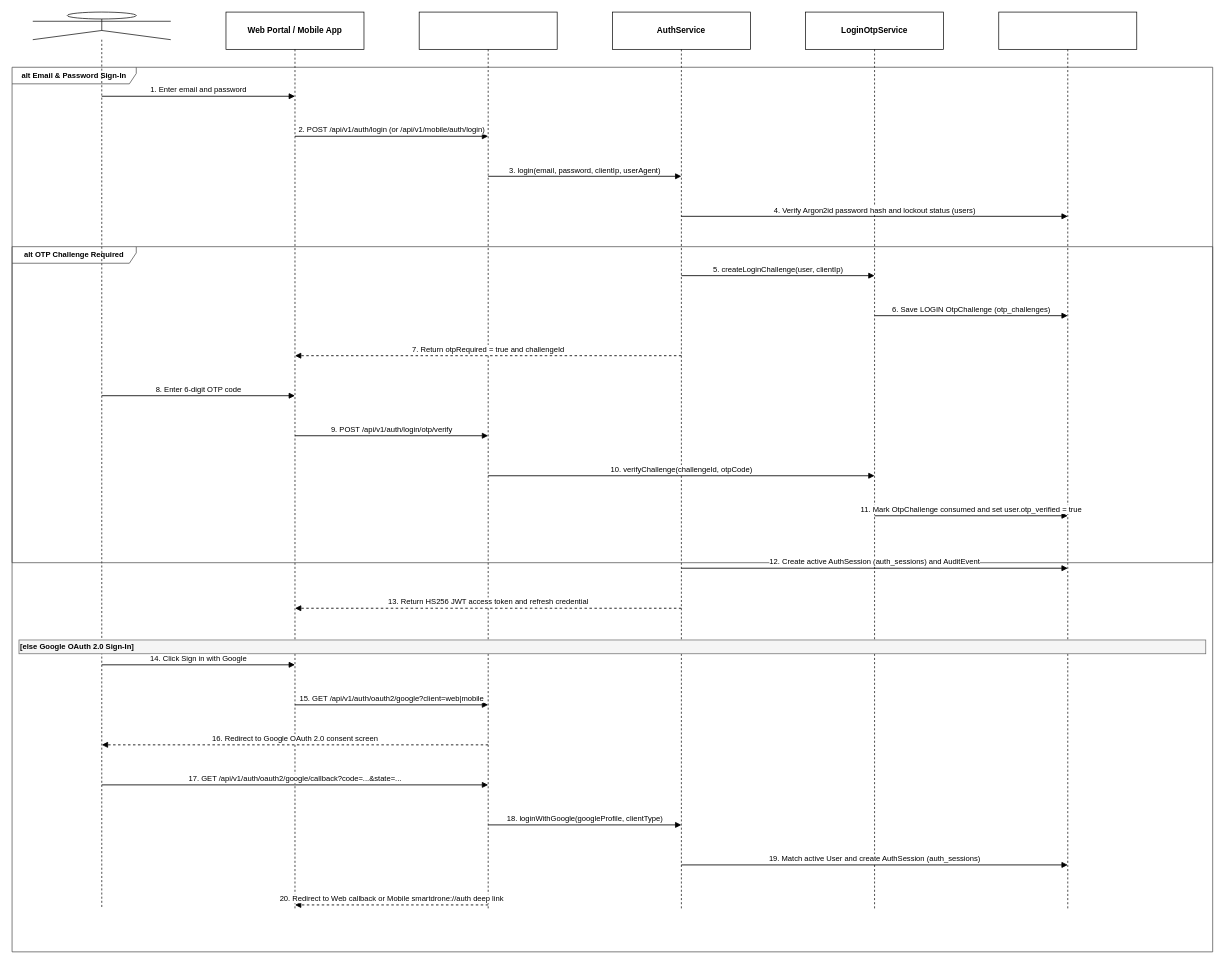
This 1225x964 diagram has some shape labels left out. The shapes that lost their labels are listed below. From the top down, each one's box as (x1, y1, x2, y2) in pixels, then its label:
(32, 11, 171, 909): System User
(418, 11, 557, 909): BrowserAuthController / OAuth2Controller
(998, 11, 1137, 909): PostgreSQL
